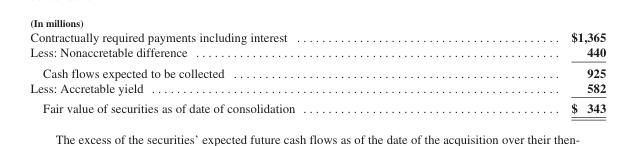table: (29, 29, 605, 114)
table column: (29, 29, 432, 114), (432, 29, 605, 114)
table row: (29, 61, 605, 79), (29, 79, 605, 97), (29, 44, 605, 61), (29, 97, 605, 114), (29, 29, 605, 44)
